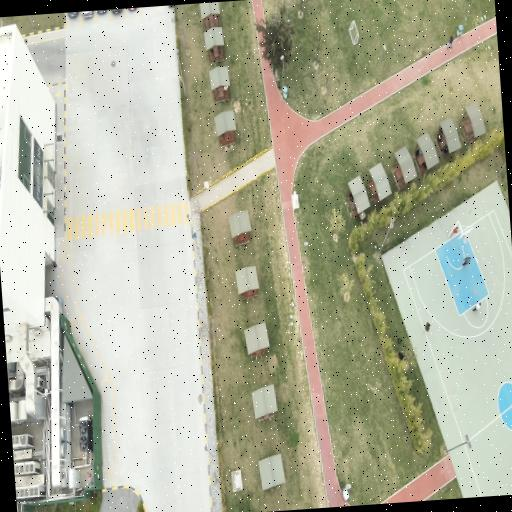car: (82, 11, 93, 17), (67, 12, 79, 17), (111, 9, 122, 13), (98, 10, 106, 13), (129, 8, 136, 10)
person: (462, 256, 471, 267), (473, 302, 481, 311), (448, 36, 453, 48), (398, 352, 405, 360), (425, 322, 430, 332), (443, 145, 448, 154), (438, 131, 442, 141)
